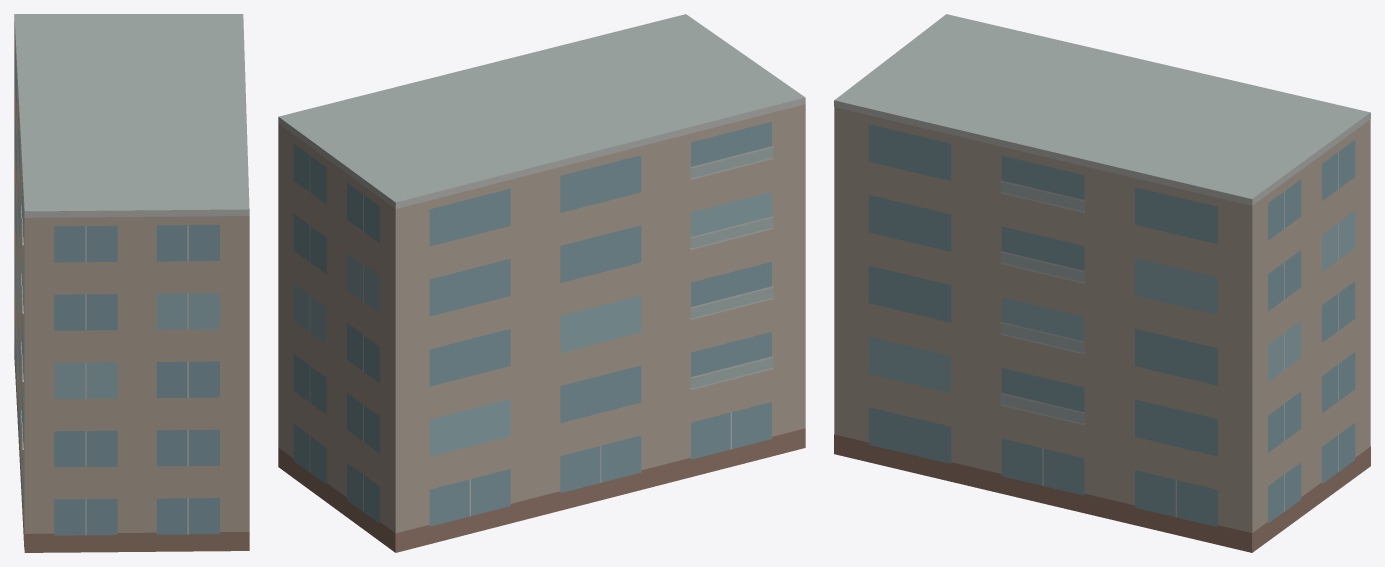
Rendered from survey-upis-32877613.glb.
3 renders of one model, left to right at view 1: azimuth 30°, elevation 25°; view 2: azimuth 150°, elevation 25°; view 3: azimuth 270°, elevation 25°, orthographic. The views are drawn at different scales.
Visible parts, largest first — view 1: survey-upis-32877613.tmp; view 2: survey-upis-32877613.tmp; view 3: survey-upis-32877613.tmp.
Boxes of the visible parts, x1,y1,x2,y2 form: survey-upis-32877613.tmp: (14, 14, 249, 552); survey-upis-32877613.tmp: (278, 14, 805, 552); survey-upis-32877613.tmp: (834, 14, 1370, 552).
Size of the model in its own units: 14.49 by 12.9 by 17.75.
